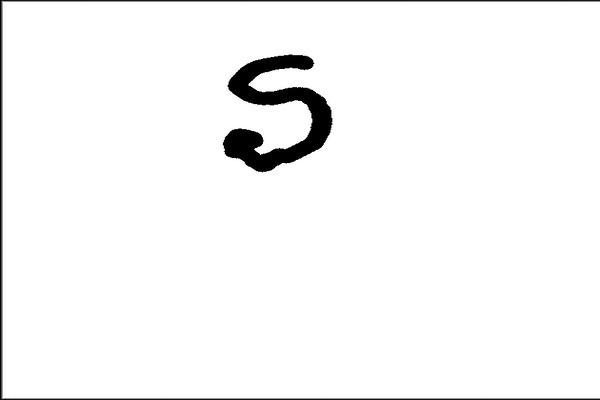S: (215, 47, 337, 175)
